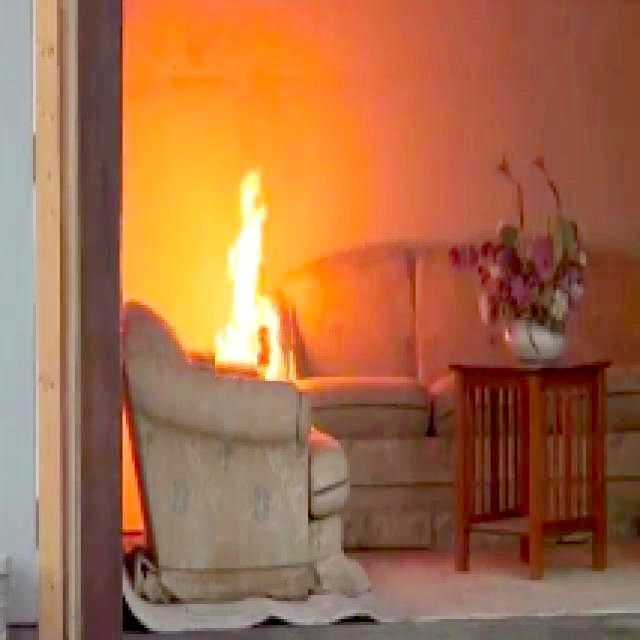fire: (198, 169, 292, 360)
